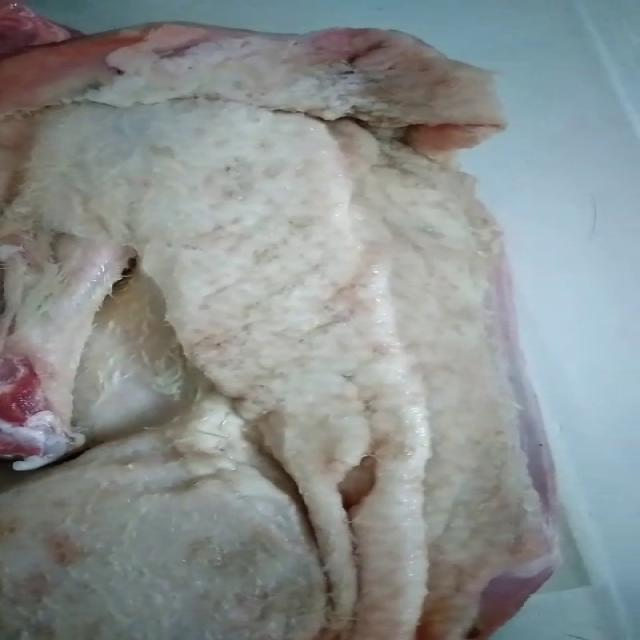chicken: (0, 10, 563, 638)
